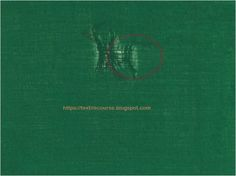Hole: (76, 8, 157, 86)
